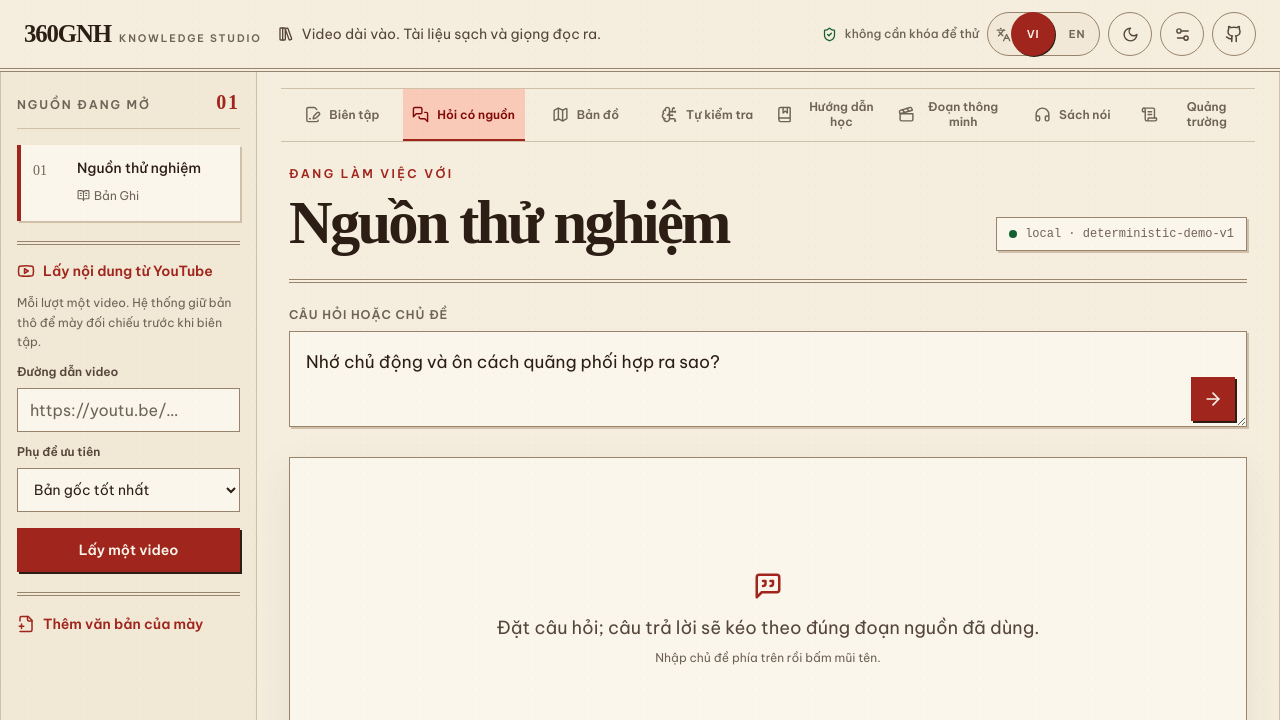
Test: Knowledge Studio app › remembers the Paper & Ink theme selected by the user
Expected: the heading "Nguồn thử nghiệm" is shown, [289,189,729,256]
What coordinates should you click on to do the following:
click the button named "Chuyển sang nền tối"
I would click on:
 (1130, 34)
Its box is [1108,12,1152,56].
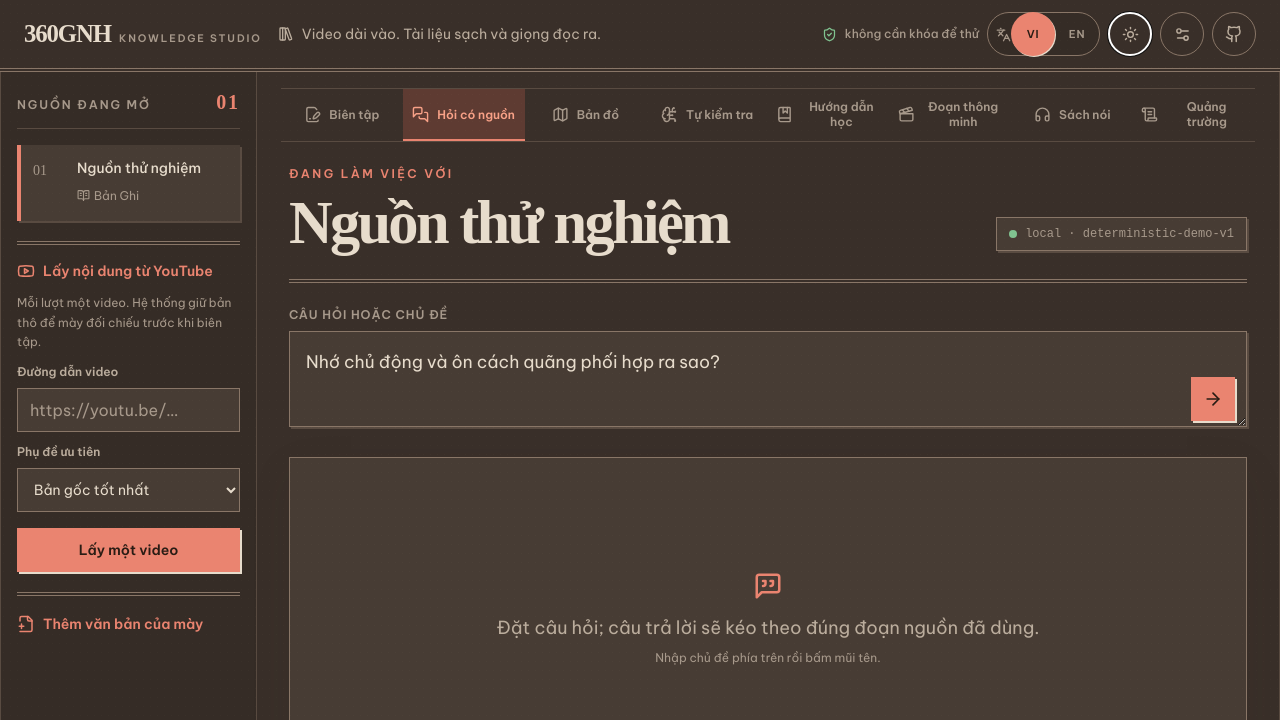
Result: the button named "Chuyển sang nền giấy sáng" is shown at [1108,12,1152,56]
